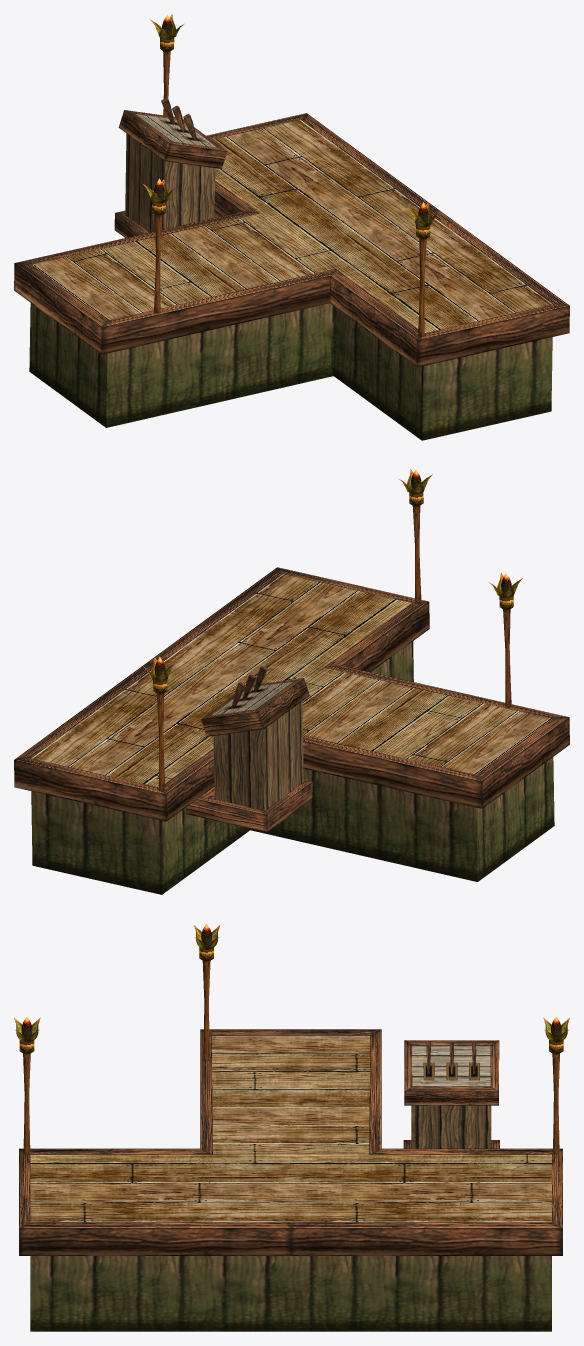
The model's file is INST_WH2_FIRST_BLOCK.fbx.
3 renders of one model, top to bottom at view 1: azimuth 30°, elevation 25°; view 2: azimuth 150°, elevation 25°; view 3: azimuth 270°, elevation 25°, orthographic. The views are drawn at different scales.
Visible parts, largest first — view 1: INST_WH2_FIRST_BLOCK; view 2: INST_WH2_FIRST_BLOCK; view 3: INST_WH2_FIRST_BLOCK.
Boxes of the visible parts, x1,y1,x2,y2 form: INST_WH2_FIRST_BLOCK: [14, 14, 569, 440]; INST_WH2_FIRST_BLOCK: [14, 469, 569, 894]; INST_WH2_FIRST_BLOCK: [14, 923, 569, 1331].
Bounding box in the file's own units: 50056 × 30882 × 61303.
10 materials, 10 textured.
